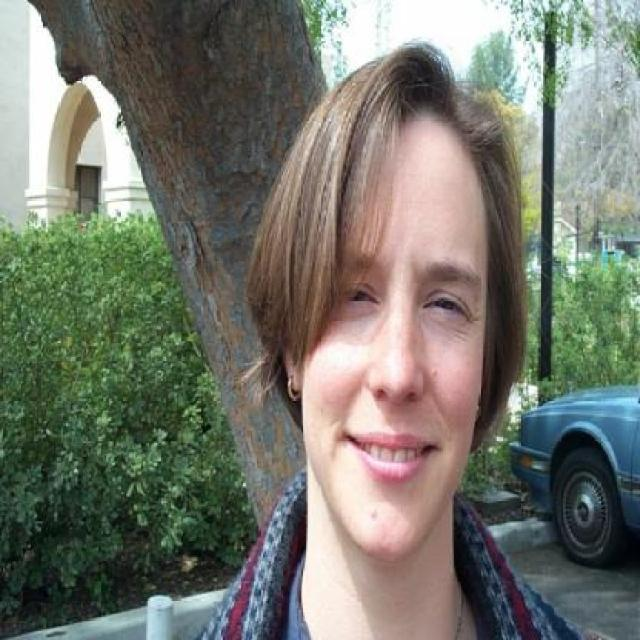awake: (424, 287, 470, 331), (345, 278, 380, 322)
